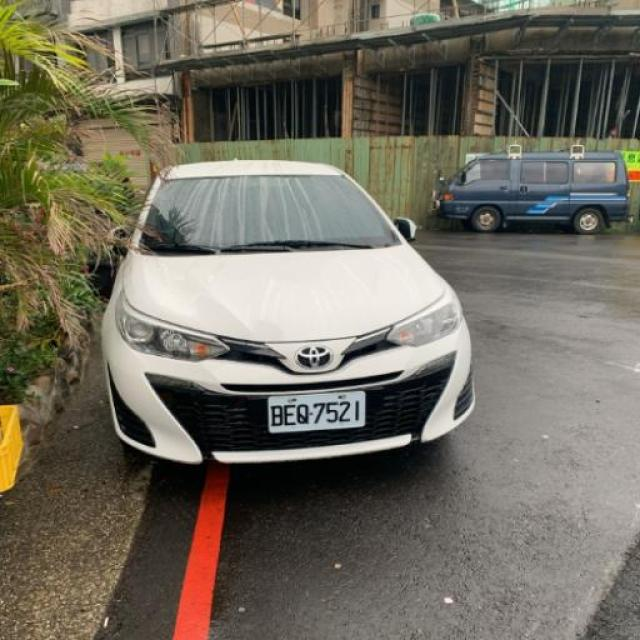illegalparking: (104, 160, 474, 461)
